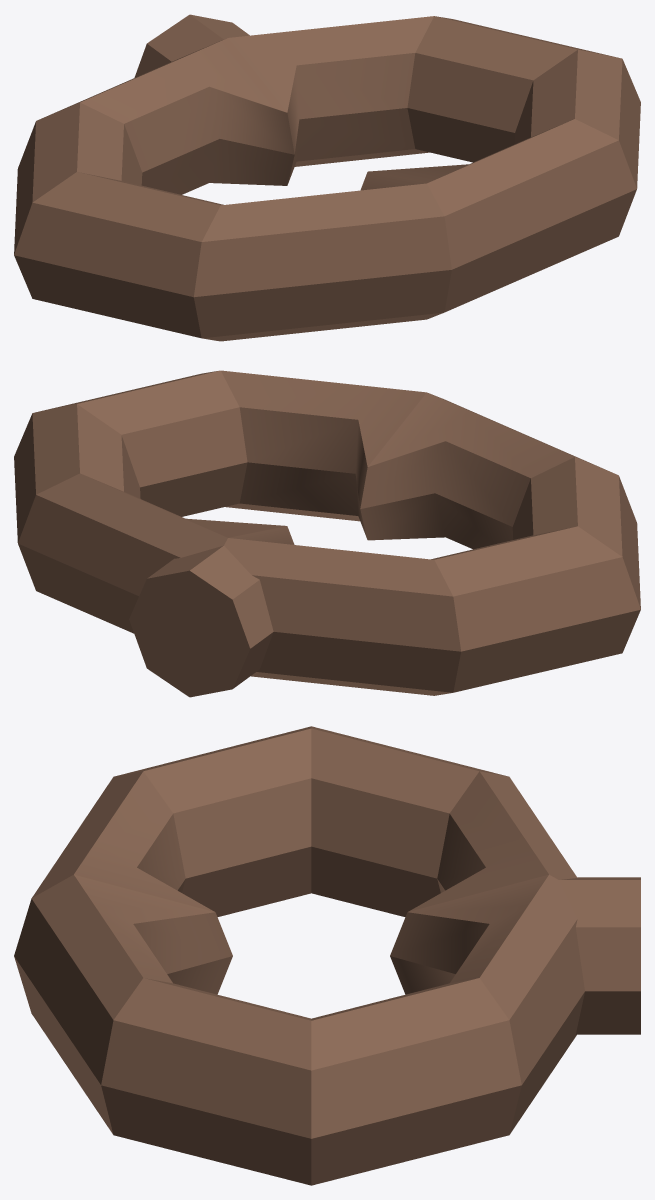
File: O_Interactive_KeyBroken_Part1.fbx
3 views of the same model, one above another, from view 1: azimuth 30°, elevation 25°; view 2: azimuth 150°, elevation 25°; view 3: azimuth 270°, elevation 25° (orthographic). The views are drawn at different scales.
Parts seen in each view (by area): view 1: pCube5; view 2: pCube5; view 3: pCube5.
Part boxes in pixels (box(x1,y1,x2,y2)): pCube5: box(14, 14, 640, 341); pCube5: box(14, 370, 640, 697); pCube5: box(14, 726, 640, 1185).
Bounding box in the file's own units: 0.1256 × 0.0261 × 0.091.
